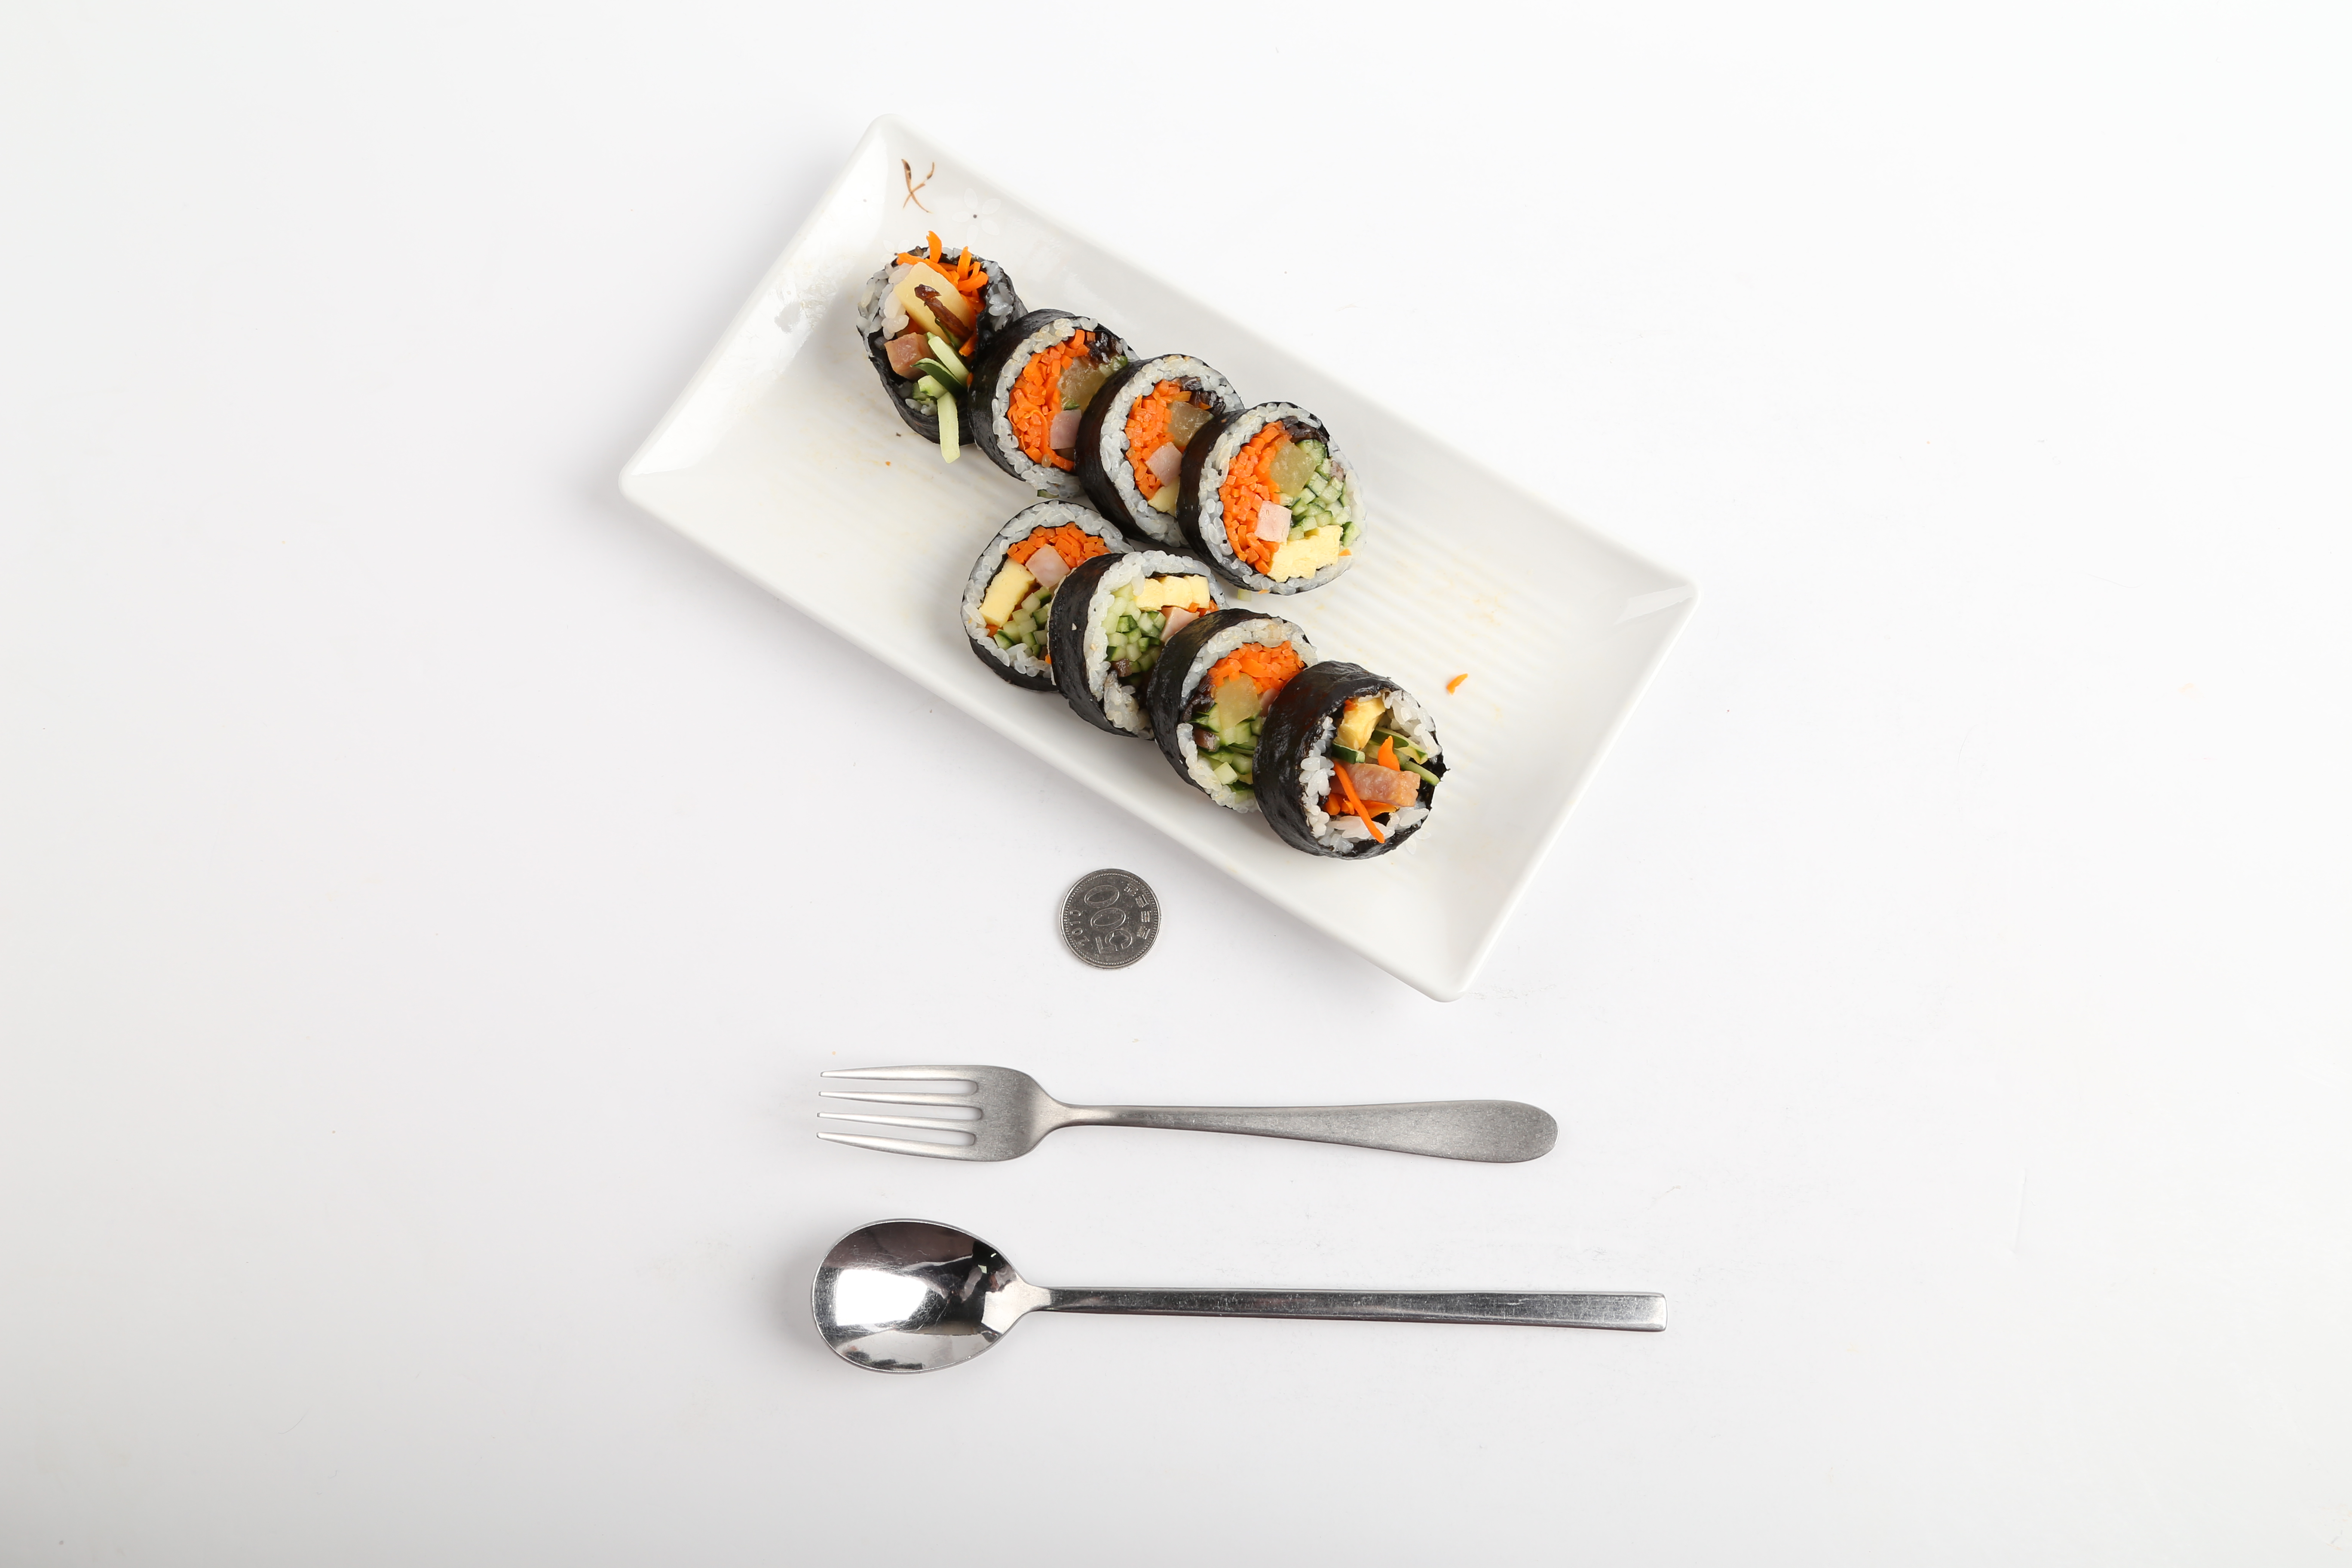dish: (621, 115, 1694, 1003)
ref_coin: (1048, 859, 1165, 975)
ref_fork: (812, 1057, 1123, 1165)
ref_spoon: (803, 1213, 1097, 1381)
김밥: (849, 229, 1447, 868)
